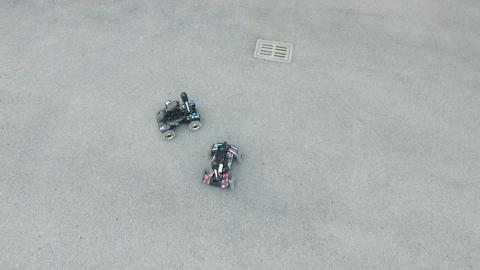chariot: (154, 90, 205, 142), (204, 140, 242, 190)
